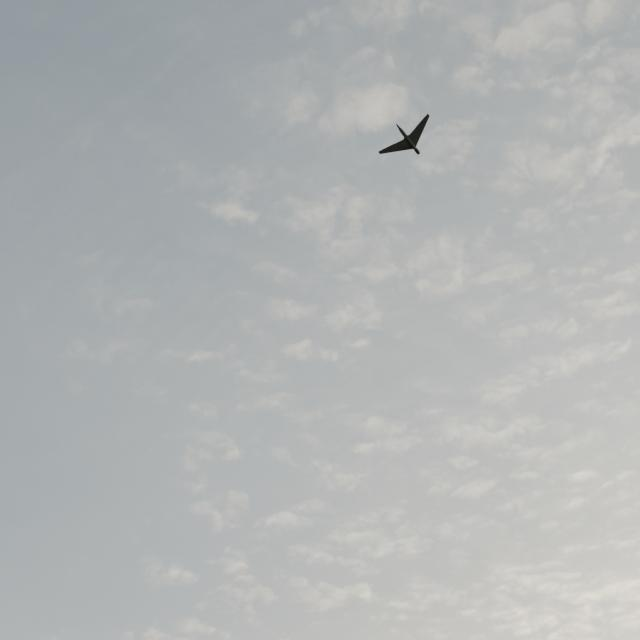Airaplan: (378, 113, 430, 155)
